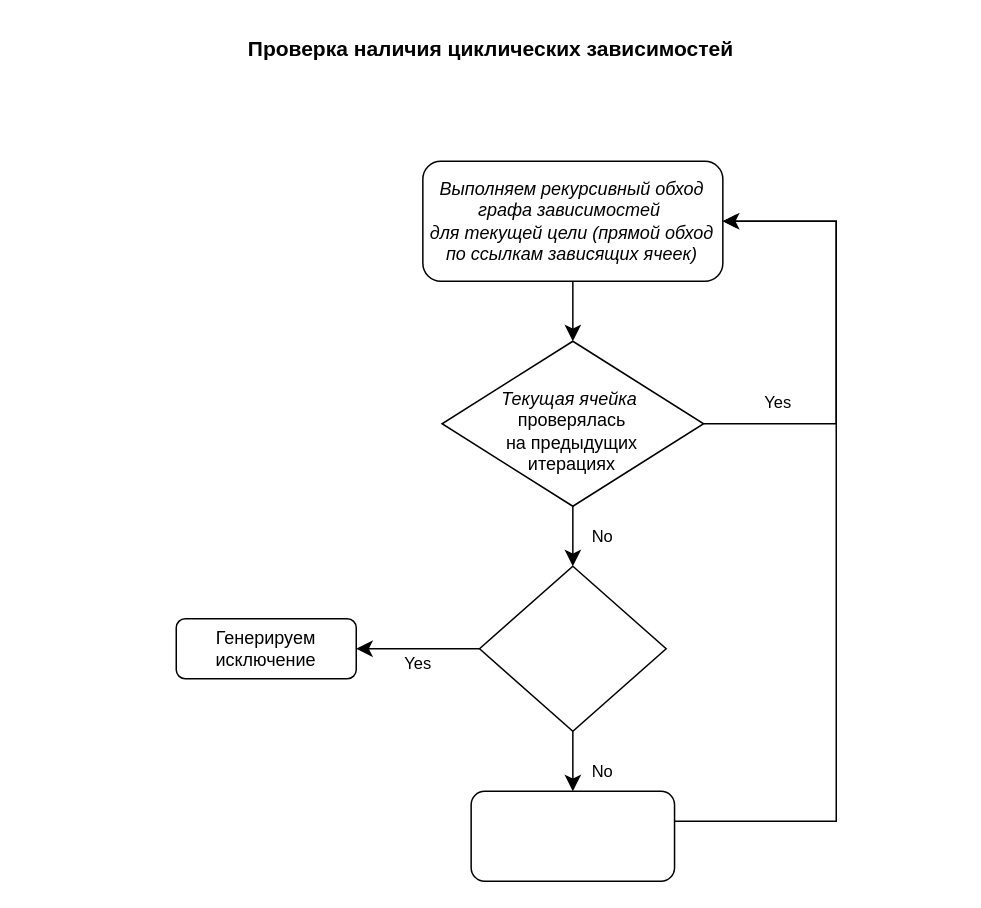
The diagram is 981 pixels wide and 908 high, and some of its shapes have lost their labels. Here are the shapes that lost their labels. From the top down, the box of each, then its label:
(478, 565, 666, 731): Если текущая ячейка зависит от исходной
(470, 790, 675, 881): Добавляем текущую ячейку в вектор проверенных зависимостей
